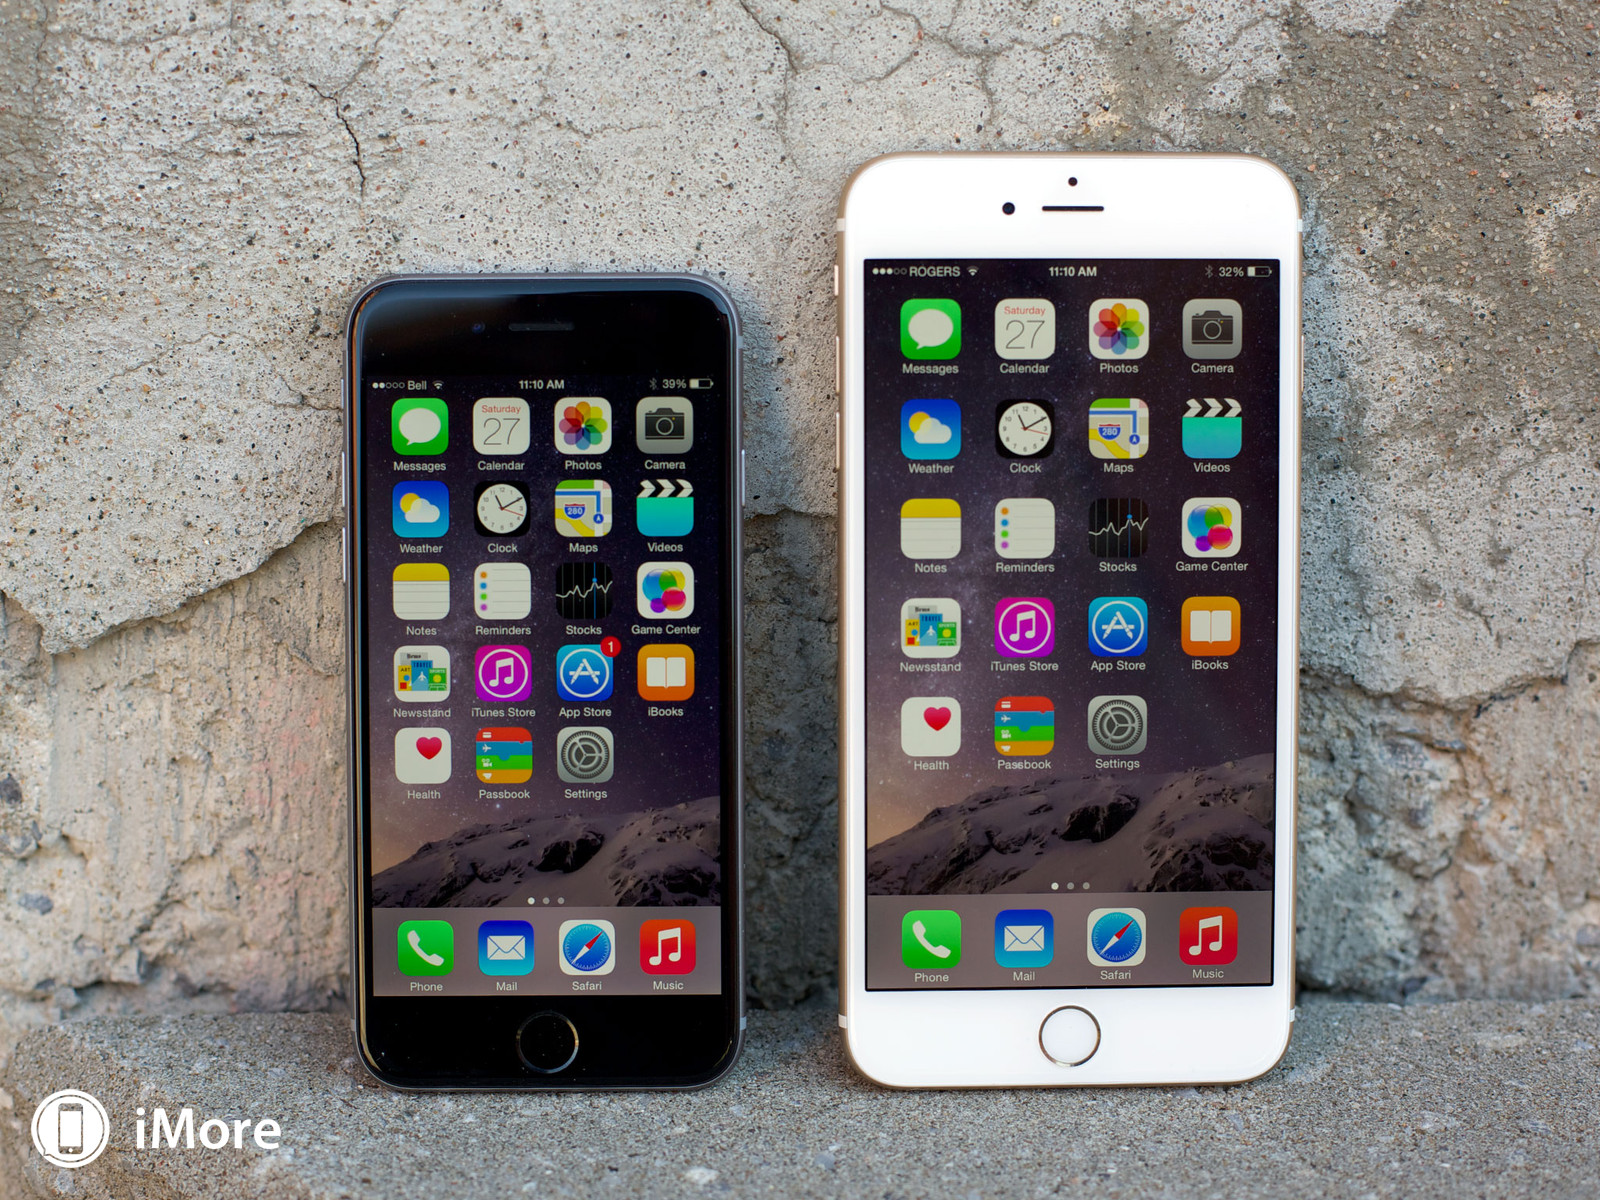smartphone: (834, 153, 1308, 1092), (340, 272, 747, 1092)
